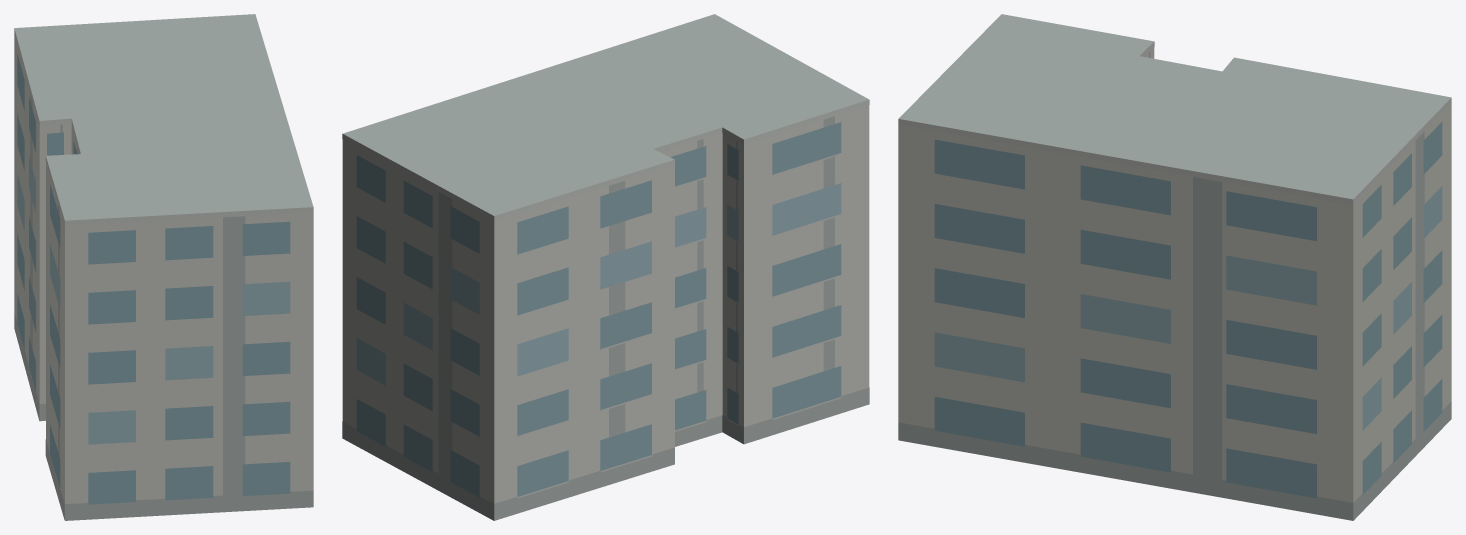
The model's file is survey-upis-32566040.glb.
The picture shows the model from 3 angles, left to right: view 1: azimuth 30°, elevation 25°; view 2: azimuth 150°, elevation 25°; view 3: azimuth 270°, elevation 25°; orthographic projection. The views are drawn at different scales.
Parts seen in each view (by area): view 1: survey-upis-32566040.tmp; view 2: survey-upis-32566040.tmp; view 3: survey-upis-32566040.tmp.
Part boxes in pixels (bbox=[...]): survey-upis-32566040.tmp: bbox=[14, 14, 313, 520]; survey-upis-32566040.tmp: bbox=[342, 14, 869, 520]; survey-upis-32566040.tmp: bbox=[898, 14, 1451, 520].
Size of the model in its own units: 16.58 by 13.4 by 20.9.
